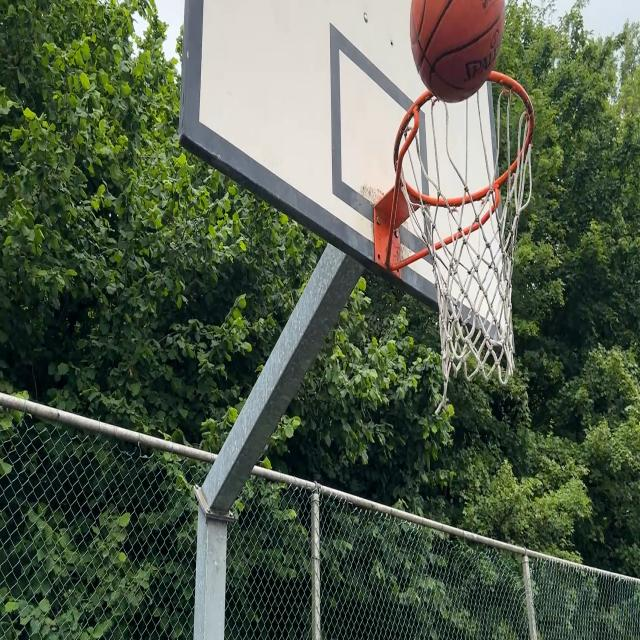Basketball: (408, 0, 503, 101)
